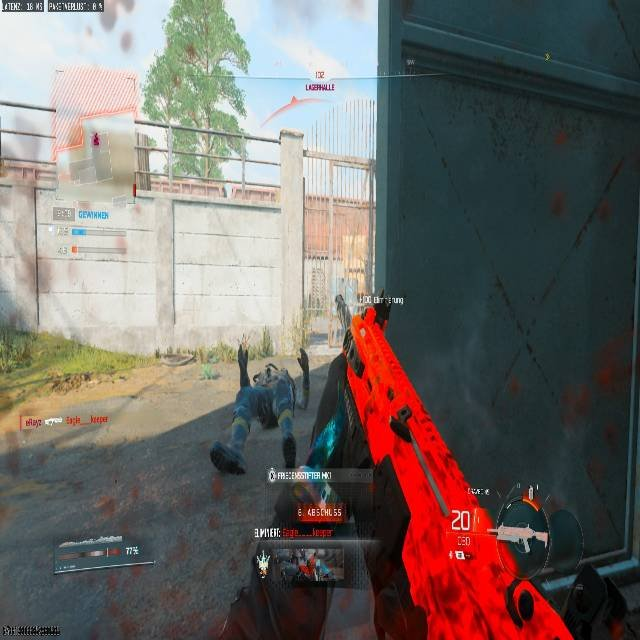player: (493, 496, 628, 639)
